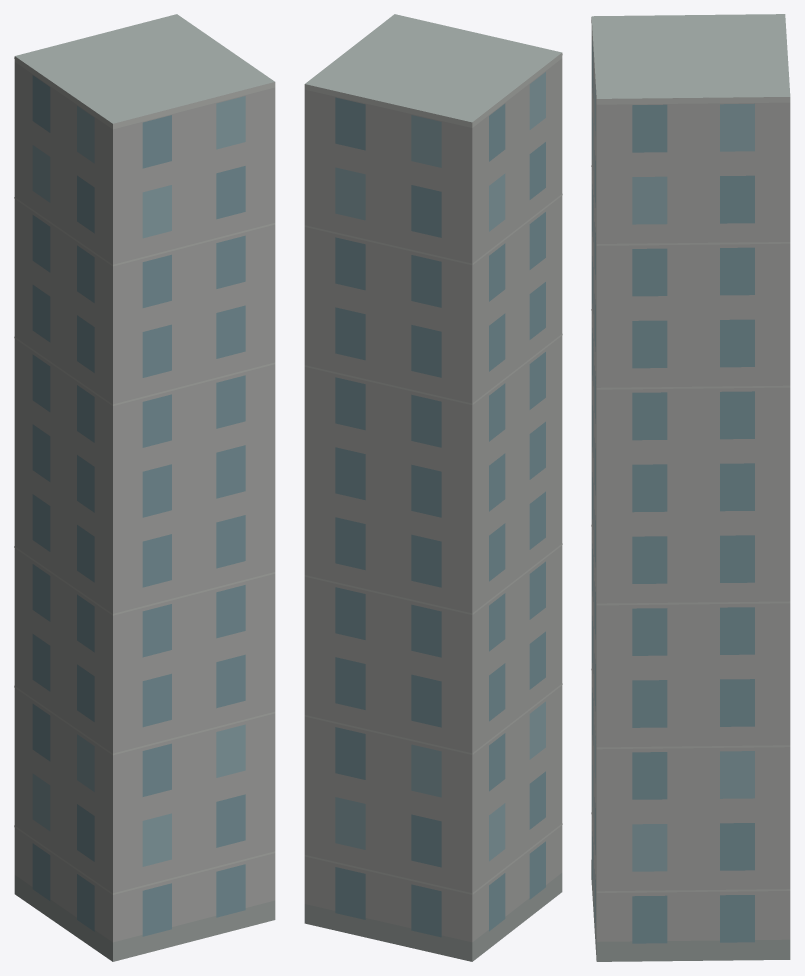
Rendered from survey-upis-32999513.glb.
3 renders of one model, left to right at view 1: azimuth 30°, elevation 25°; view 2: azimuth 150°, elevation 25°; view 3: azimuth 270°, elevation 25°, orthographic. The views are drawn at different scales.
Visible parts, largest first — view 1: survey-upis-32999513.tmp; view 2: survey-upis-32999513.tmp; view 3: survey-upis-32999513.tmp.
Boxes of the visible parts, bbox=[...] form: survey-upis-32999513.tmp: bbox=[14, 14, 275, 961]; survey-upis-32999513.tmp: bbox=[304, 14, 562, 961]; survey-upis-32999513.tmp: bbox=[591, 14, 790, 961].
Bounding box in the file's own units: 7.75 × 36.6 × 7.67.
